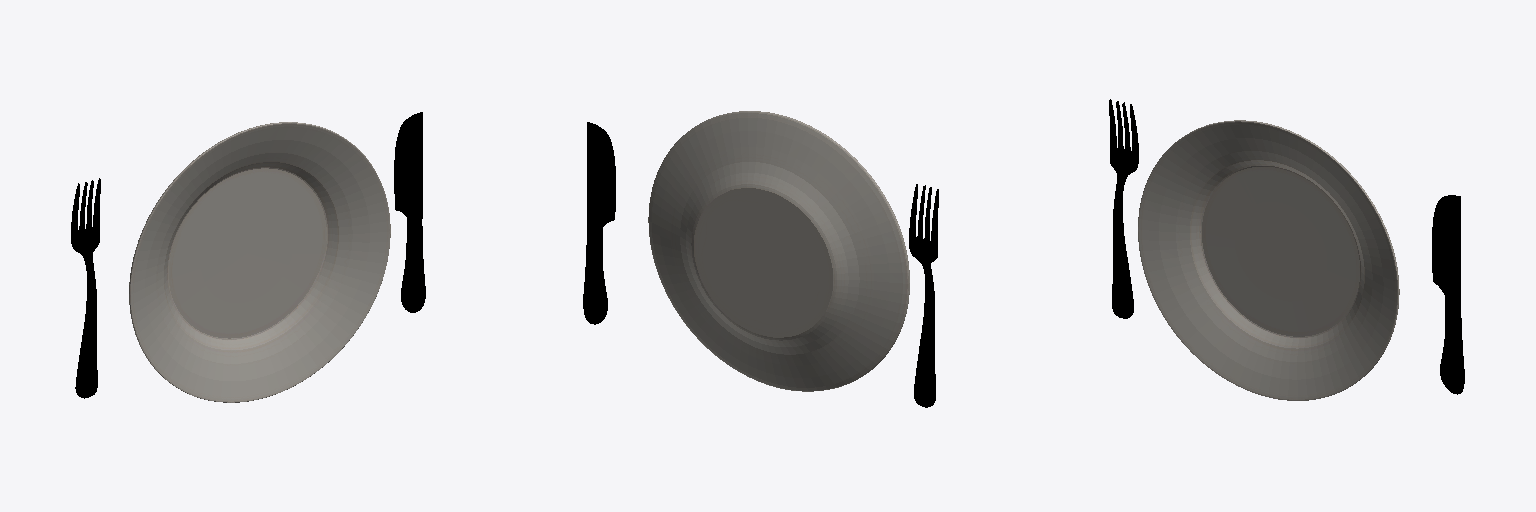
3 views of the same model, side by side, from view 1: azimuth 30°, elevation 25°; view 2: azimuth 150°, elevation 25°; view 3: azimuth 330°, elevation 25° (orthographic).
Visible parts, largest first — view 1: Object.2, Object.3, Object.1; view 2: Object.2, Object.3, Object.1; view 3: Object.2, Object.3, Object.1.
Boxes of the visible parts, <box> form: Object.2: <box>129,122,390,402</box>; Object.3: <box>394,112,425,312</box>; Object.1: <box>71,178,100,398</box>; Object.2: <box>648,111,909,391</box>; Object.3: <box>583,122,615,324</box>; Object.1: <box>909,184,938,407</box>; Object.2: <box>1138,120,1399,400</box>; Object.3: <box>1432,195,1464,394</box>; Object.1: <box>1109,99,1138,318</box>.
Size of the model in its own units: 0.512 by 0.3773 by 0.0413.
Materials: 1 (1 with a texture image).